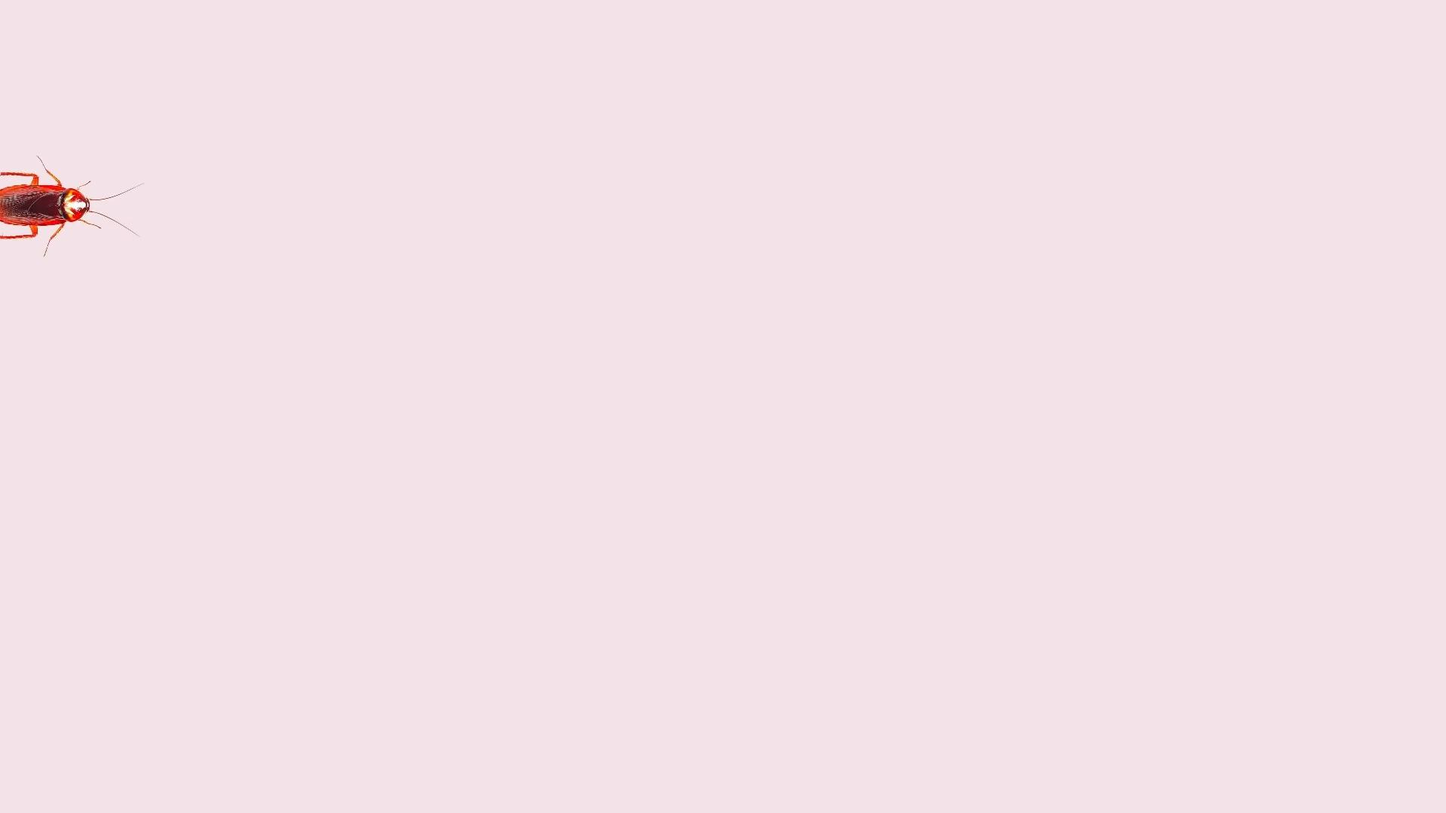cockroach: (0, 134, 136, 263)
